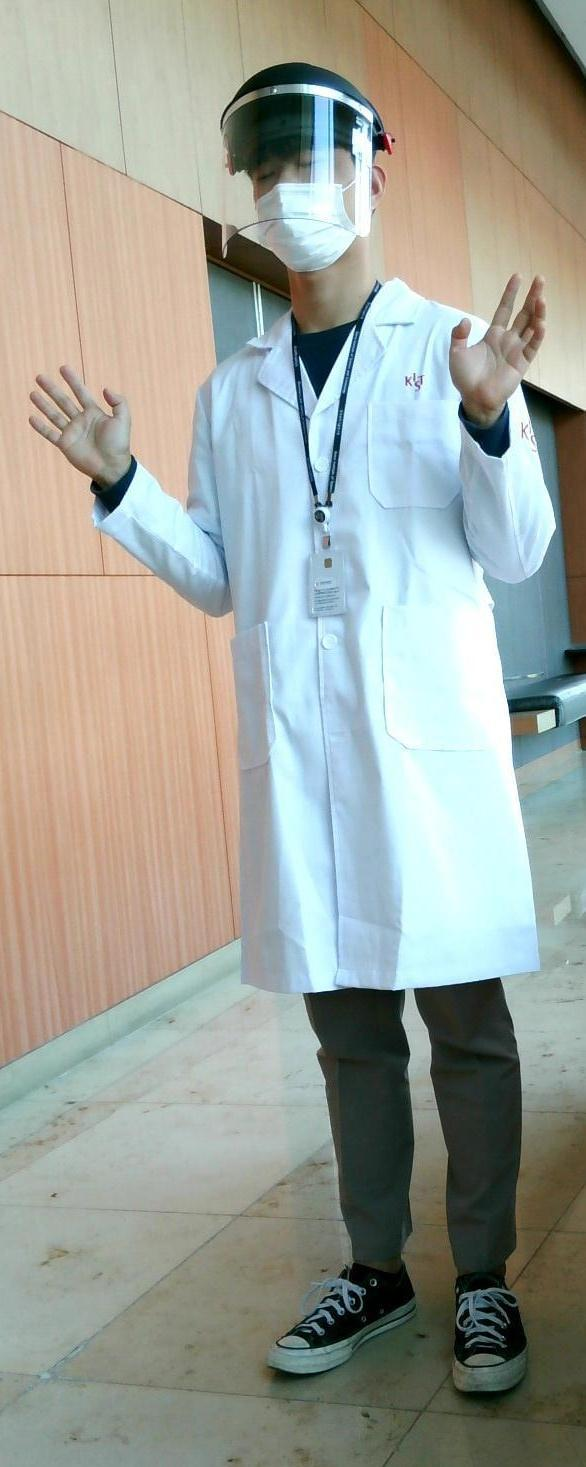lab_coat: (191, 307, 451, 1004)
